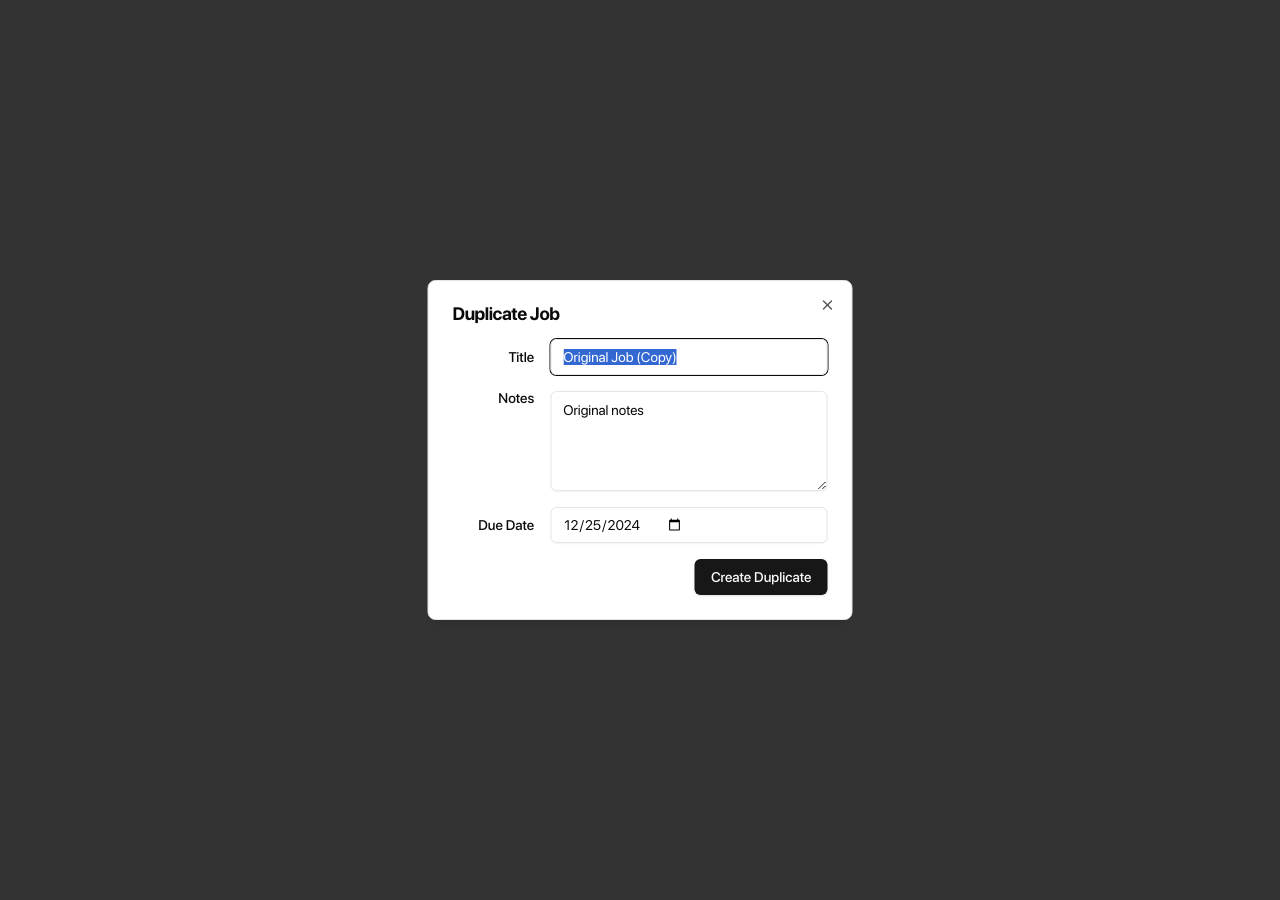
Scenario: DuplicateJobDialog › shows loading state during submission
Click the button "Create Duplicate" at x=761, y=577, box [695,559,828,595]
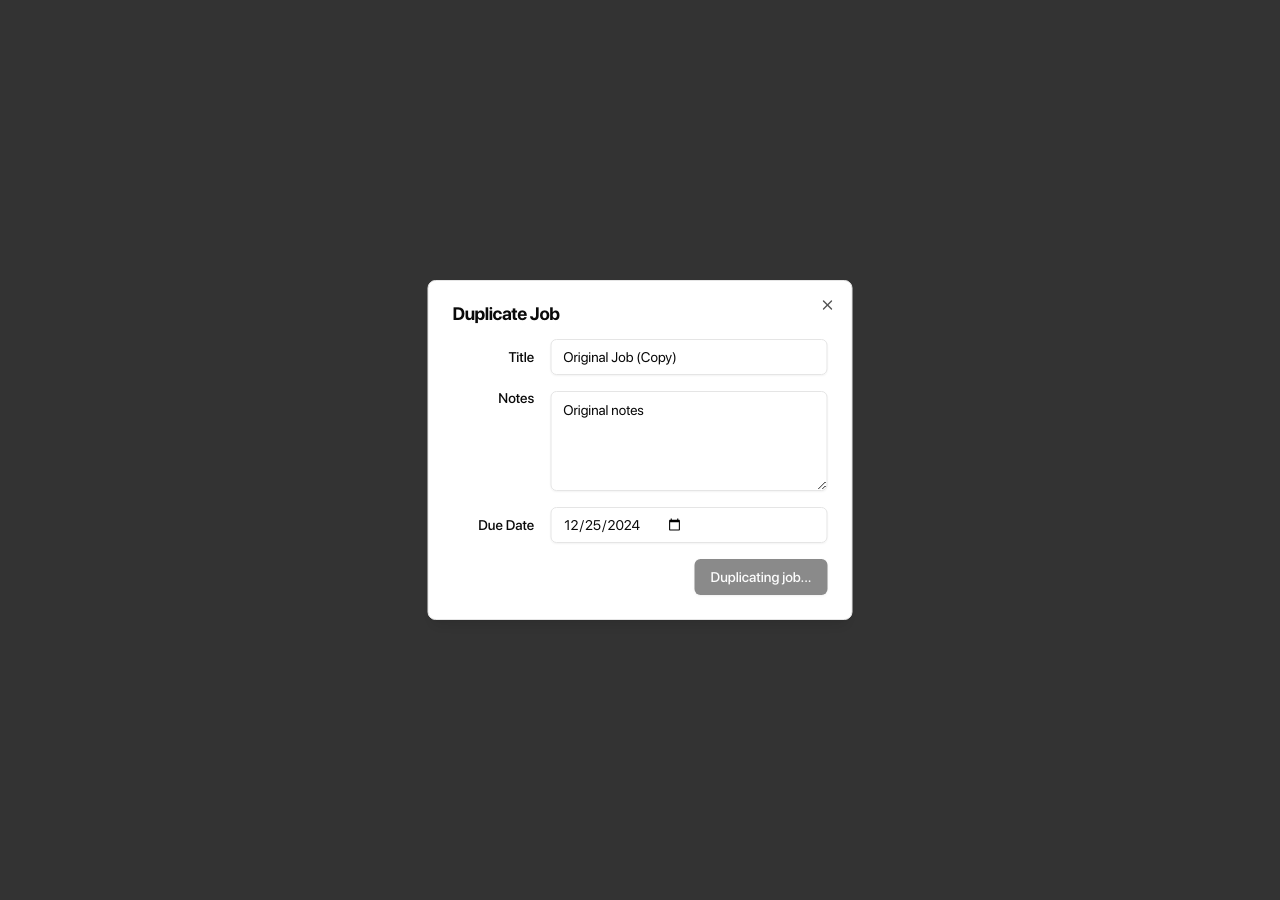
Expected: the button "Duplicating job..." is disabled, [694,559,828,595]
